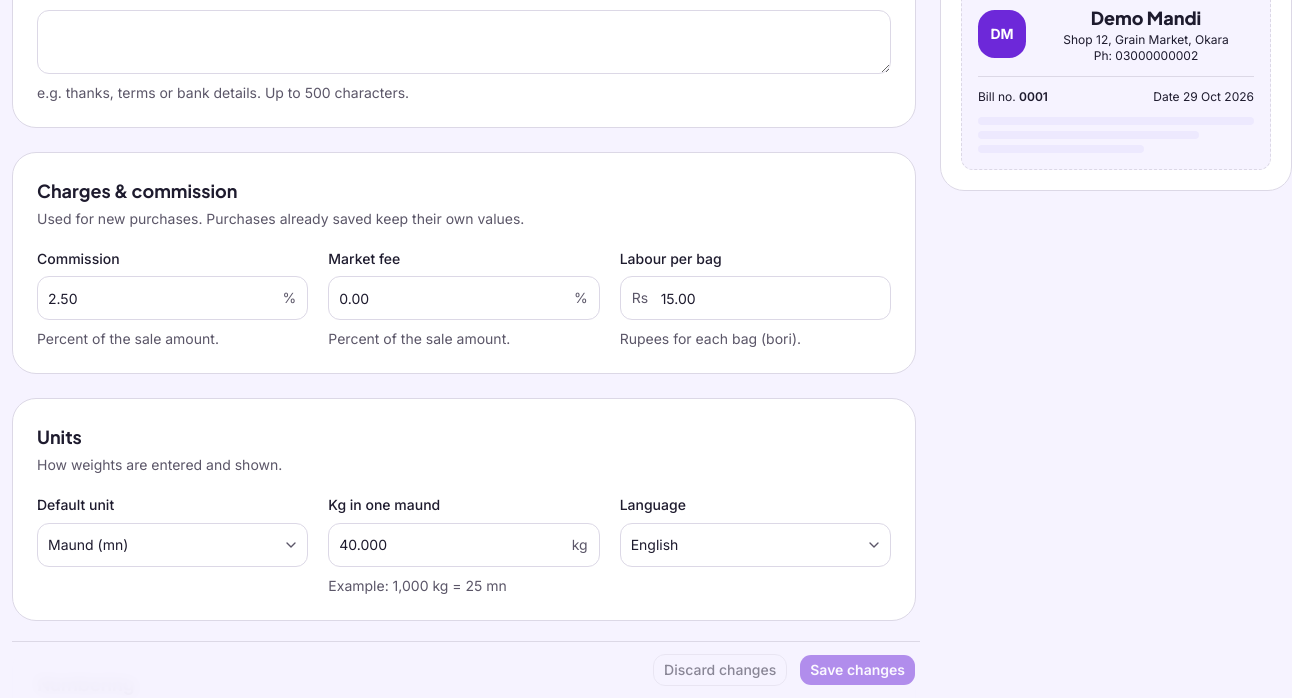
Test: SettingsForm › saving › sends only the changed fields and shows the values the server stored
(page scrolled)
Replace the text in the field labelled "Commission" with "2.5" at (173, 298), box [37,276,308,320]
(page scrolled)
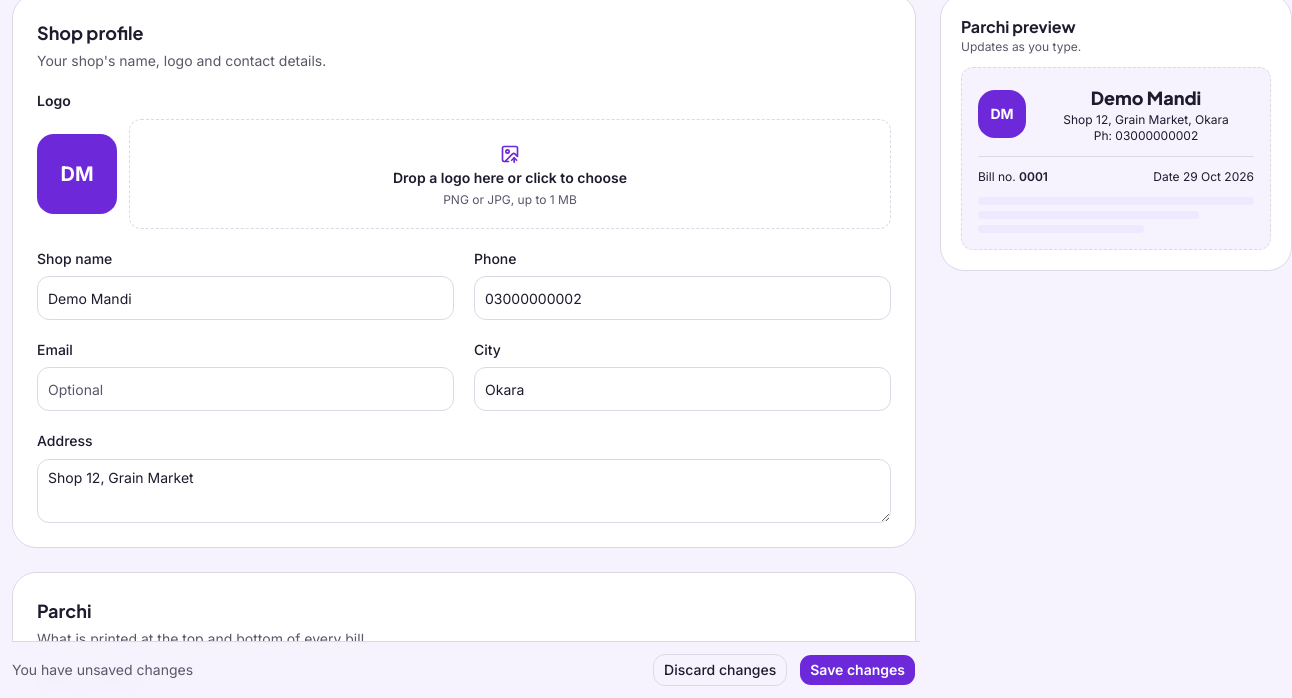
Replace the text in the field labelled "Phone" with "+92 301 1234567" at (682, 298), box [474,276,891,320]
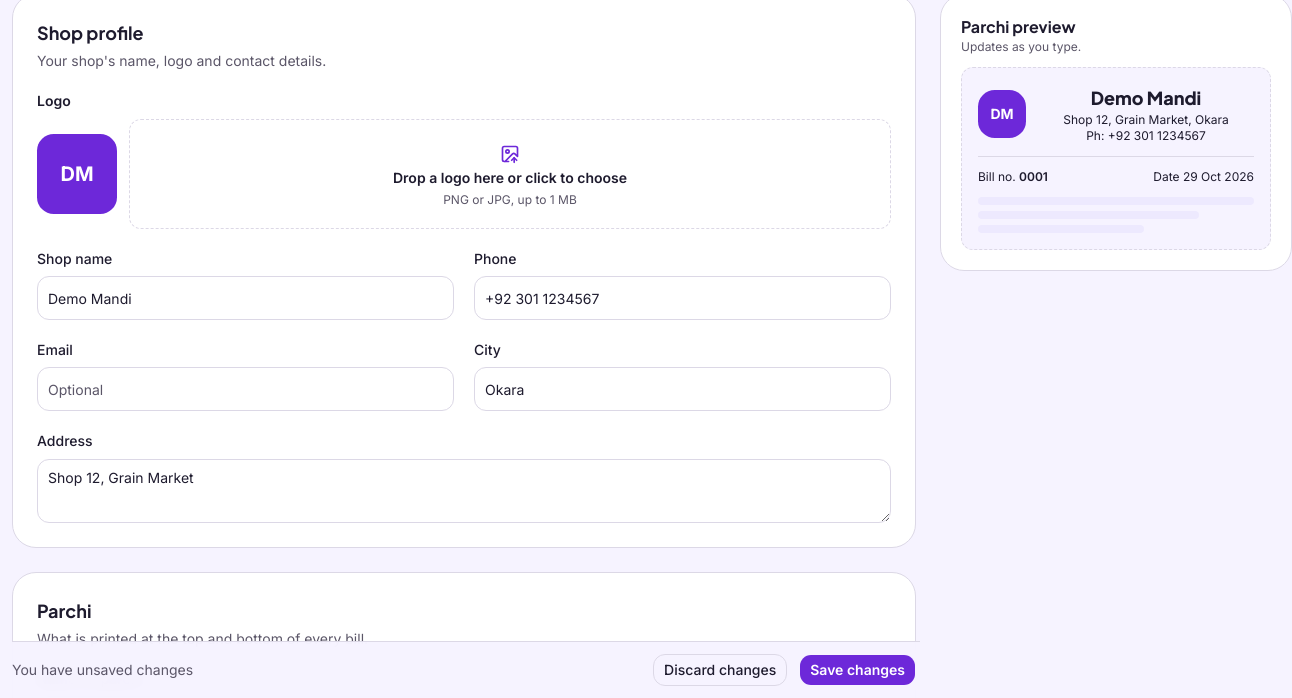
Clear the field labelled "City" at (682, 389), box [474,367,891,411]
(page scrolled)
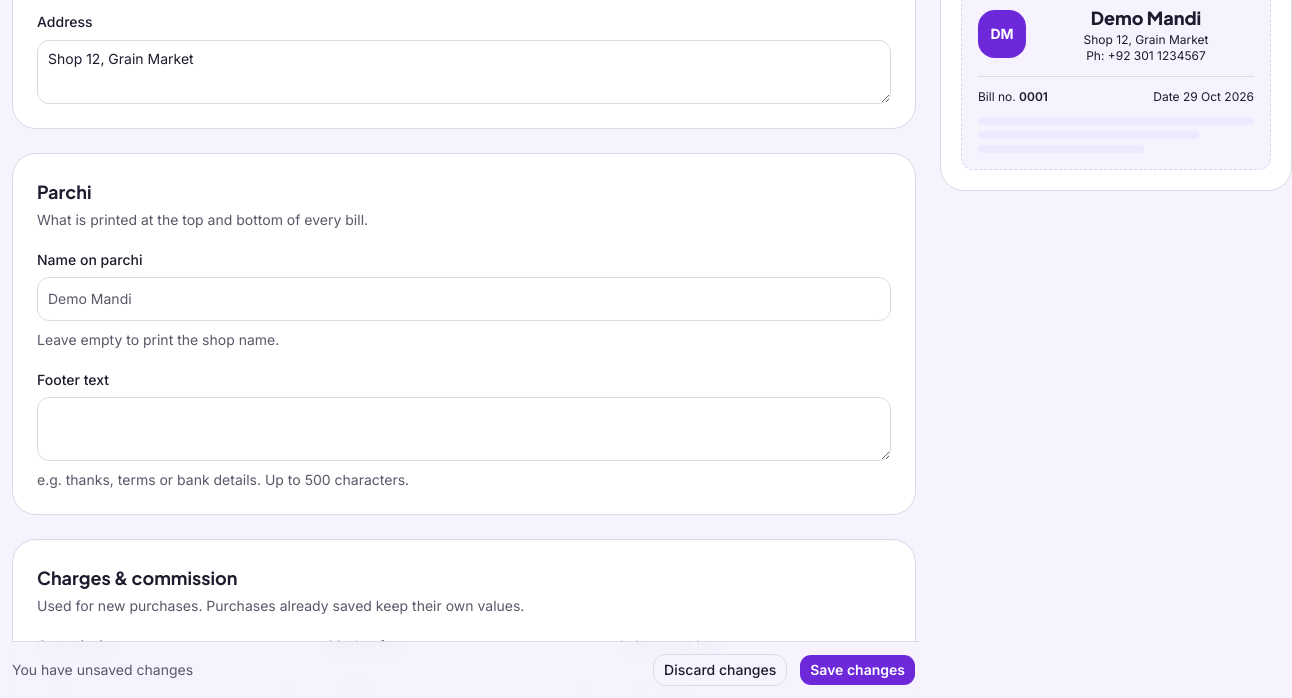
Type "  Aslam Traders " into the field labelled "Name on parchi".
click(464, 299); type("  Aslam Traders ")  # box [37,277,891,321]
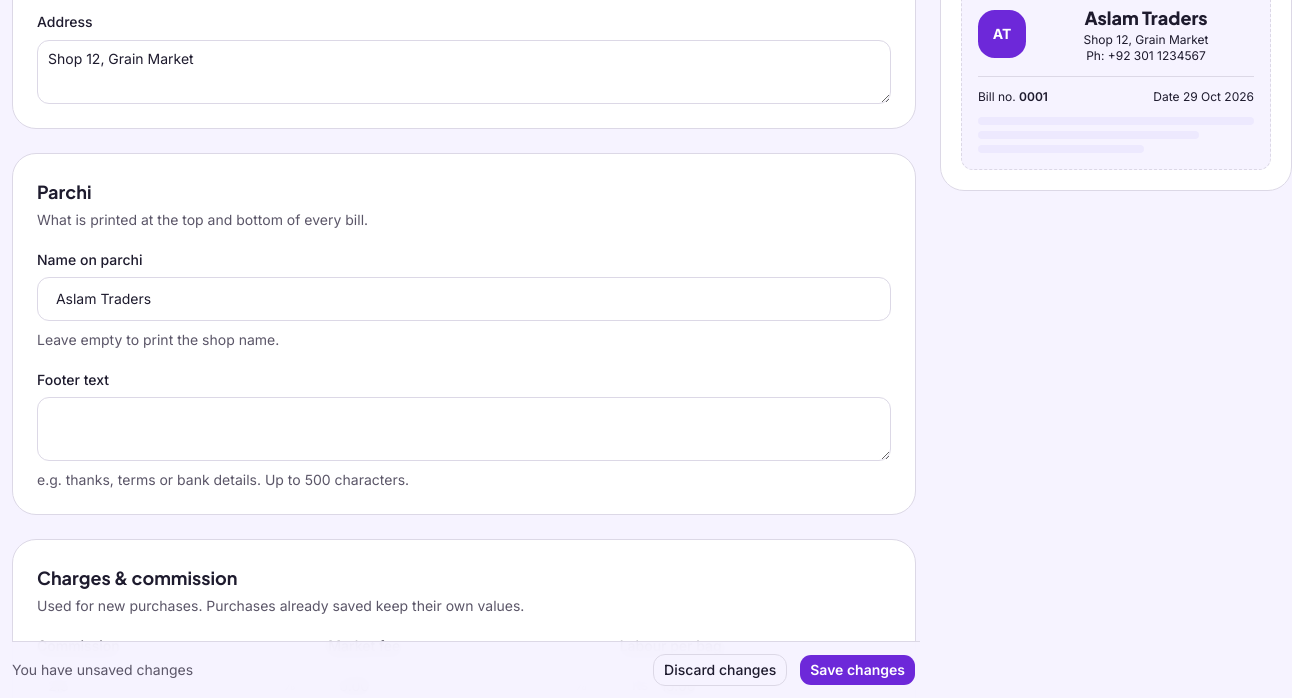
Click the button "Save changes".
click(858, 670)  # box [799,654,916,686]
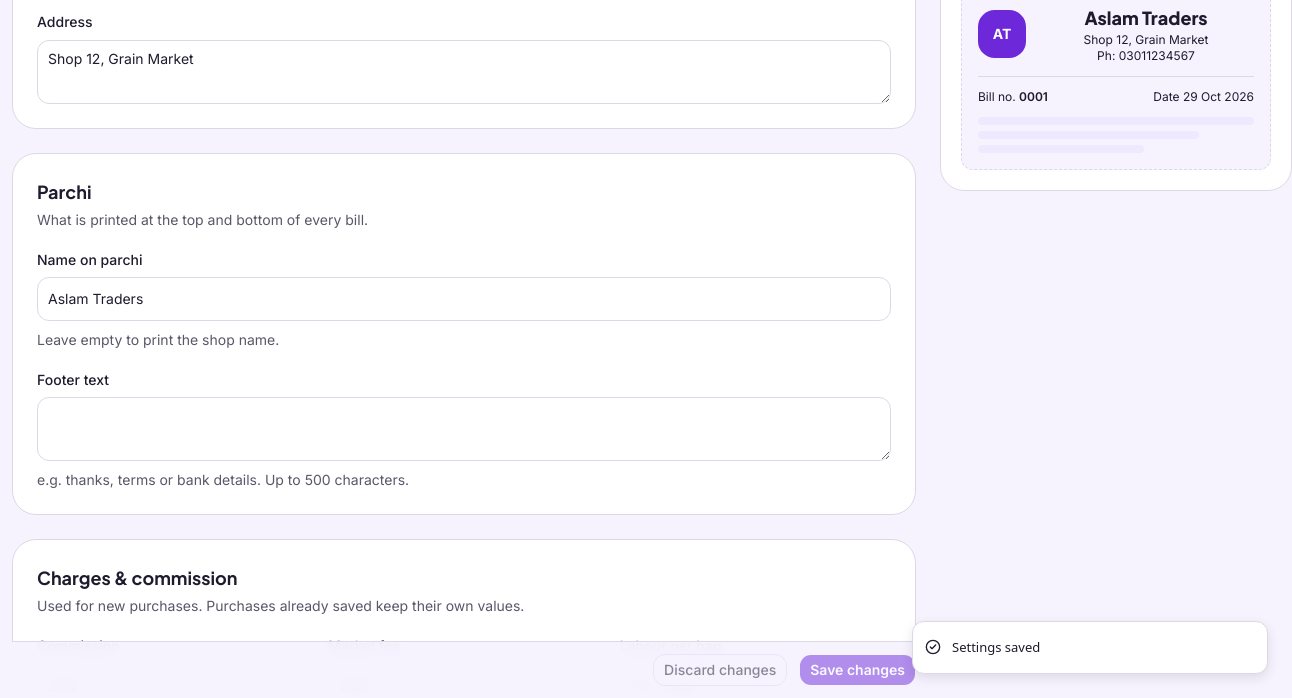
Now the text "Settings saved" is shown, box [952,638,1040,657]
Now the button "Save changes" is disabled, box [799,654,916,686]
Now the text "You have unsaved changes" is gone
